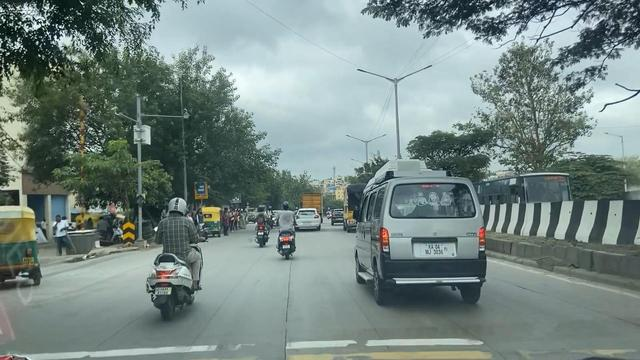LMV: (348, 170, 494, 315), (142, 194, 206, 326)
